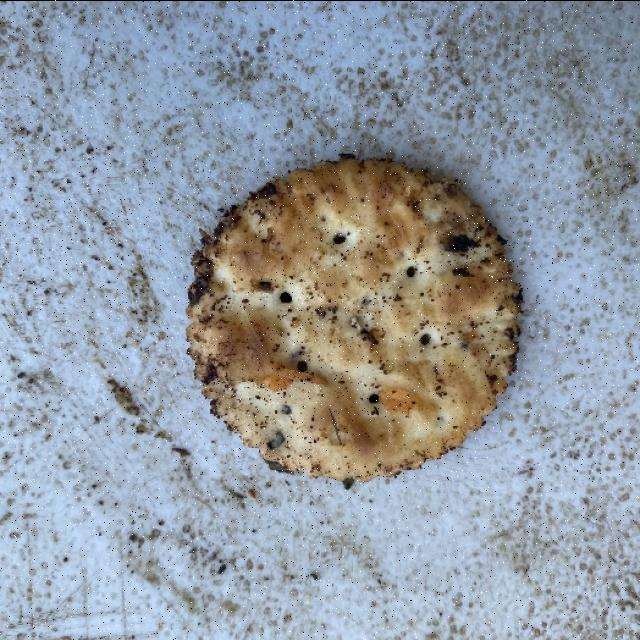organik: (189, 153, 521, 489)
